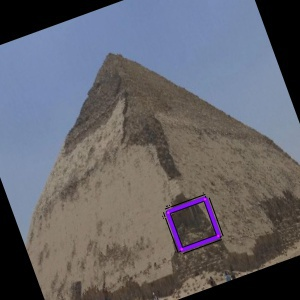square: (162, 194, 226, 253)
